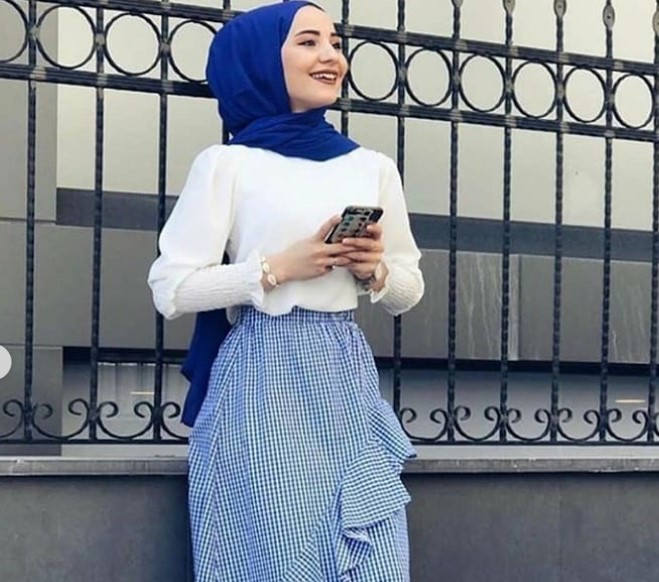face_no_mask: (258, 1, 354, 120)
